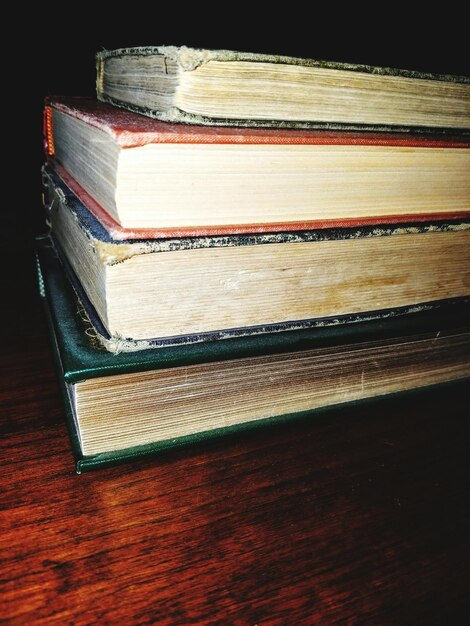not a gesture sign: (37, 240, 469, 472)
